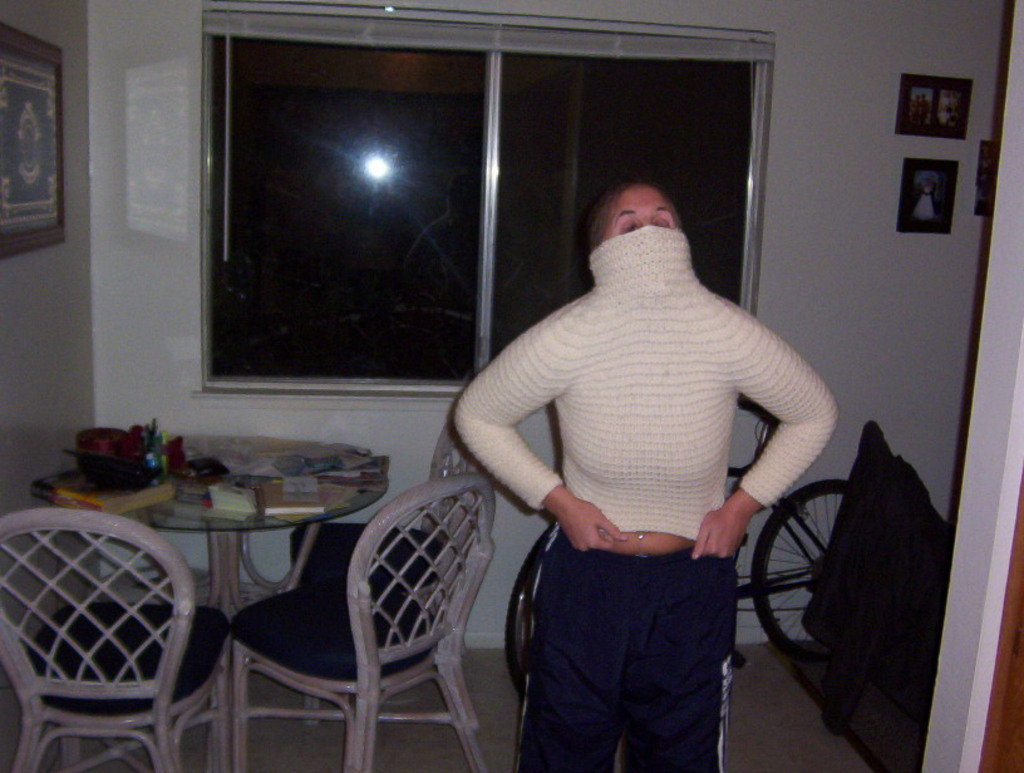Chair: (285, 420, 487, 724), (0, 507, 230, 772)
